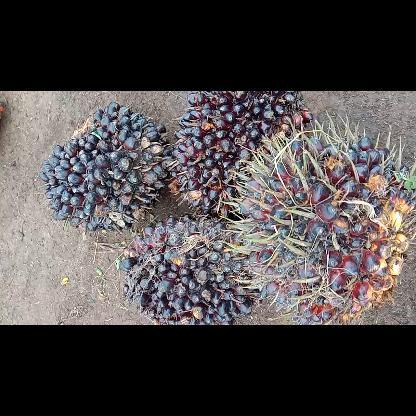TBS mentah: (235, 132, 416, 324), (167, 91, 316, 219), (37, 99, 174, 233), (116, 212, 260, 324)
